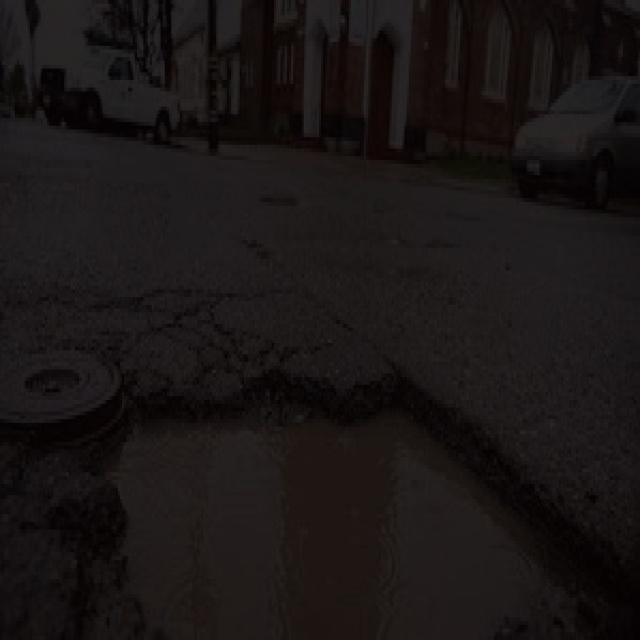Pothole: (50, 362, 640, 640)
